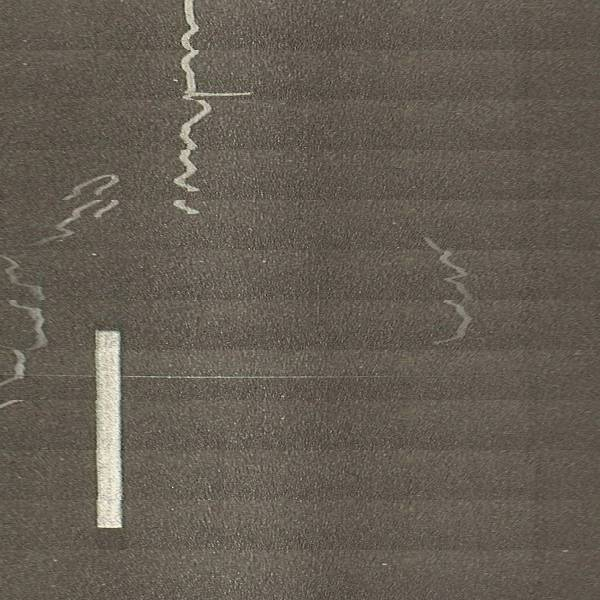road_damage: (169, 1, 216, 219), (23, 172, 122, 247), (420, 232, 478, 352), (1, 251, 47, 383), (127, 371, 403, 382)
